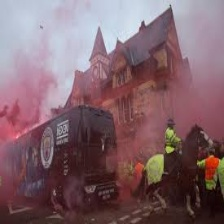smoke: (1, 57, 60, 138), (156, 86, 219, 126)
